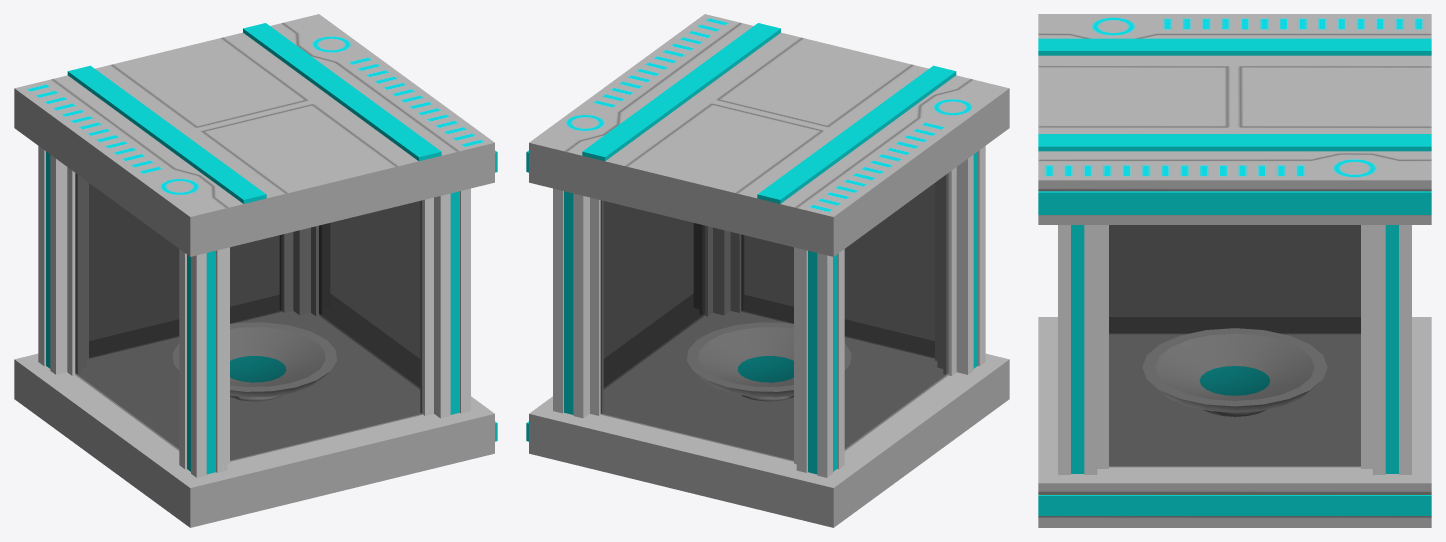
File: movable middle.fbx
3 views of the same model, side by side, from view 1: azimuth 30°, elevation 25°; view 2: azimuth 150°, elevation 25°; view 3: azimuth 270°, elevation 25° (orthographic). The views are drawn at different scales.
Parts seen in each view (by area): view 1: polySurface1, polySurface2, box_ver2:glass1, box_ver2:glass4, box_ver2:glass3, box_ver2:glass2, box_ver2:hashira1, box_ver2:hashira2, box_ver2:hashira4, box_ver2:sara2, box_ver2:hashira3; view 2: polySurface1, polySurface2, box_ver2:glass3, box_ver2:glass4, box_ver2:glass1, box_ver2:glass2, box_ver2:hashira4, box_ver2:hashira3, box_ver2:hashira1, box_ver2:sara2, box_ver2:hashira2; view 3: polySurface1, box_ver2:glass2, polySurface2, box_ver2:glass4, box_ver2:hashira2, box_ver2:hashira3, box_ver2:sara2.
Boxes of the visible parts, x1,y1,x2,y2 form: polySurface1: (14,14,497,256); polySurface2: (14,294,497,527); box_ver2:glass1: (230,200,423,461); box_ver2:glass4: (75,173,179,450); box_ver2:glass3: (89,183,282,357); box_ver2:glass2: (319,201,419,387); box_ver2:hashira1: (179,247,229,477); box_ver2:hashira2: (420,188,470,418); box_ver2:hashira4: (38,146,88,375); box_ver2:sara2: (172,322,336,401); box_ver2:hashira3: (280,223,329,316); polySurface1: (526,14,1009,256); polySurface2: (526,294,1009,527); box_ver2:glass3: (600,200,793,461); box_ver2:glass4: (844,173,948,450); box_ver2:glass1: (741,183,934,357); box_ver2:glass2: (604,201,704,387); box_ver2:hashira4: (794,247,844,477); box_ver2:hashira3: (553,188,603,418); box_ver2:hashira1: (935,146,985,375); box_ver2:sara2: (687,322,851,401); box_ver2:hashira2: (694,223,743,316); polySurface1: (1038,14,1431,224); box_ver2:glass2: (1109,225,1360,466); polySurface2: (1038,317,1431,527); box_ver2:glass4: (1109,225,1360,333); box_ver2:hashira2: (1058,225,1108,474); box_ver2:hashira3: (1361,225,1411,474); box_ver2:sara2: (1142,328,1327,416).
Size of the model in its own units: 10.08 by 9.88 by 10.
